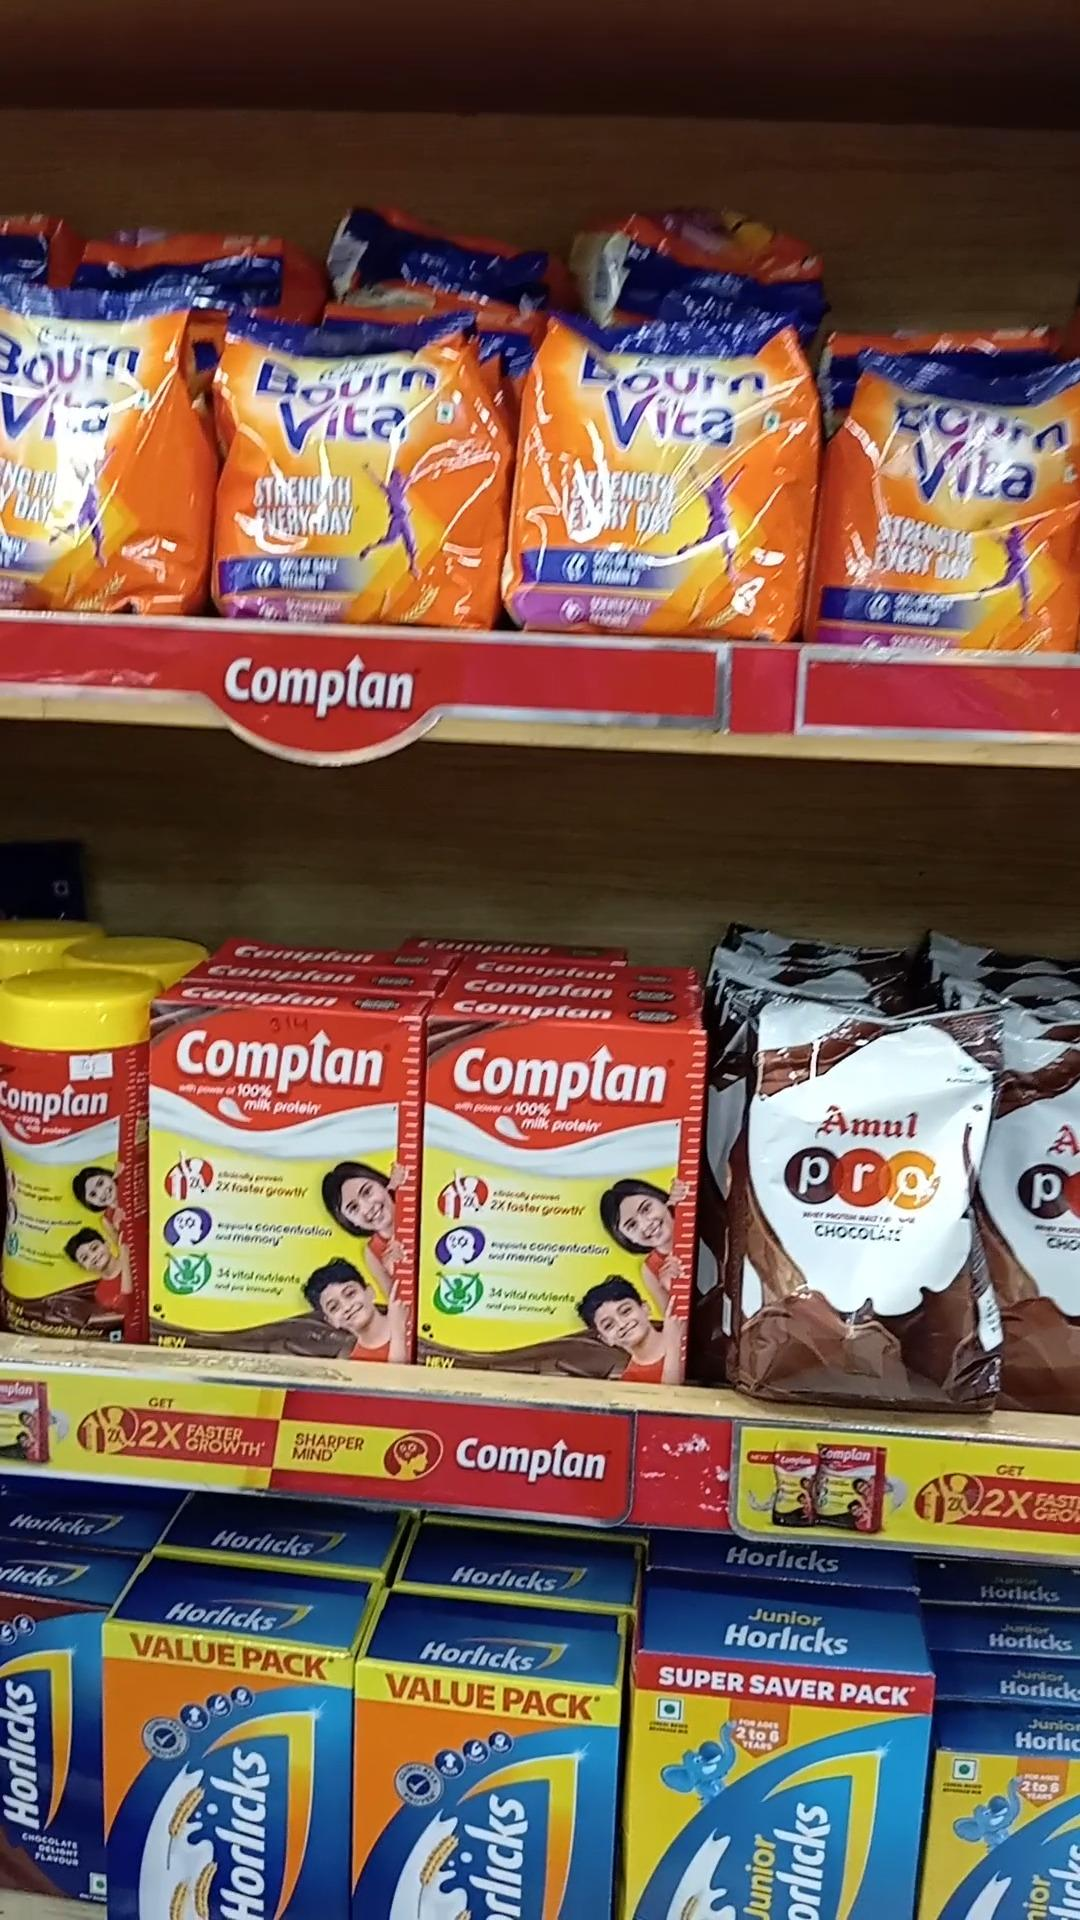BOURN_VITA_500_G_POUCH: (512, 307, 806, 630), (220, 289, 497, 622), (829, 342, 1080, 642), (0, 248, 191, 611)
COMPLAN_CHOCOLATE_500_GMS_JAR: (0, 965, 135, 1348)
COMPLAN_CHOCOLATE_500_GMS_PACK: (427, 1019, 700, 1367), (150, 1010, 413, 1356)
HORLICK_CLASSIC_MALT_500_G_PACK: (109, 1629, 348, 1920), (365, 1662, 601, 1920)
